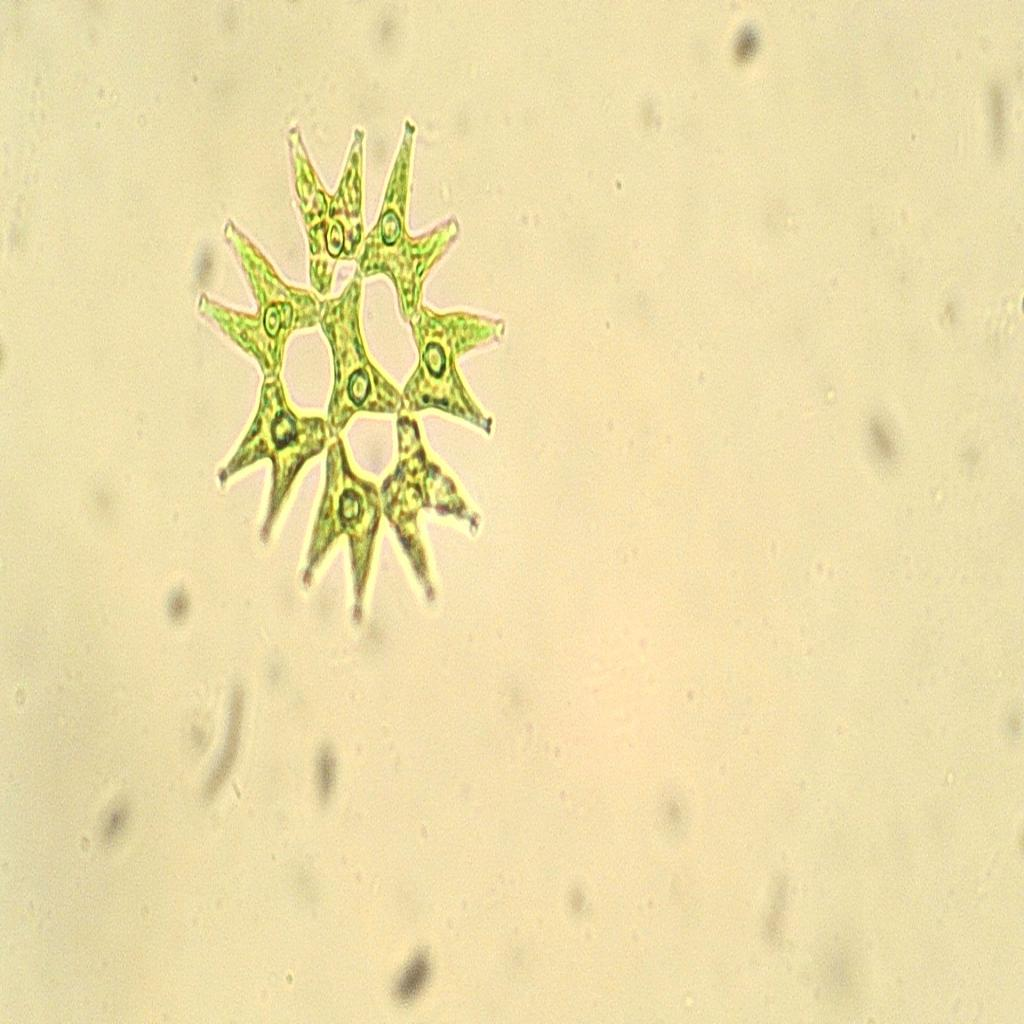Pediastrum_1T: (194, 85, 512, 651)
